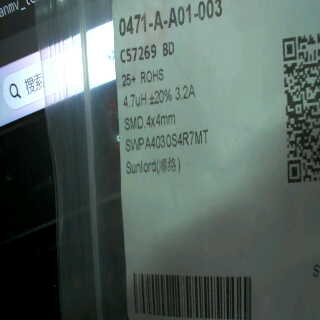4.7uH: (122, 89, 148, 111)
